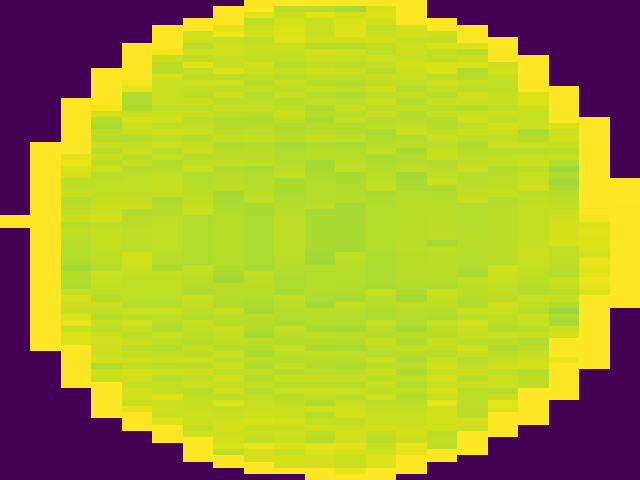sphere: (2, 5, 640, 480)
